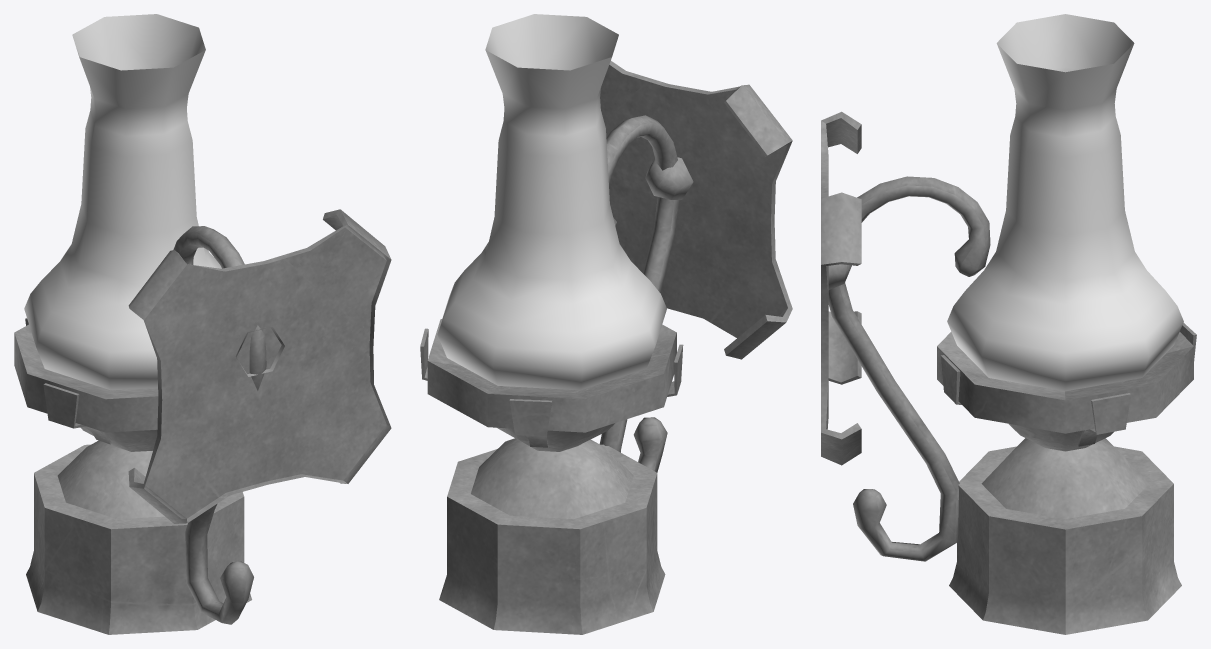
The model's file is SM_WallLamp.fbx.
3 views of the same model, side by side, from view 1: azimuth 30°, elevation 25°; view 2: azimuth 150°, elevation 25°; view 3: azimuth 270°, elevation 25° (orthographic).
Parts seen in each view (by area): view 1: SM_WallLamp; view 2: SM_WallLamp; view 3: SM_WallLamp.
Part boxes in pixels (x1,y1,x2,y2): SM_WallLamp: (14,14,391,634); SM_WallLamp: (420,14,792,634); SM_WallLamp: (821,14,1196,634).
Bounding box in the file's own units: 15.68 × 31.91 × 20.04.
